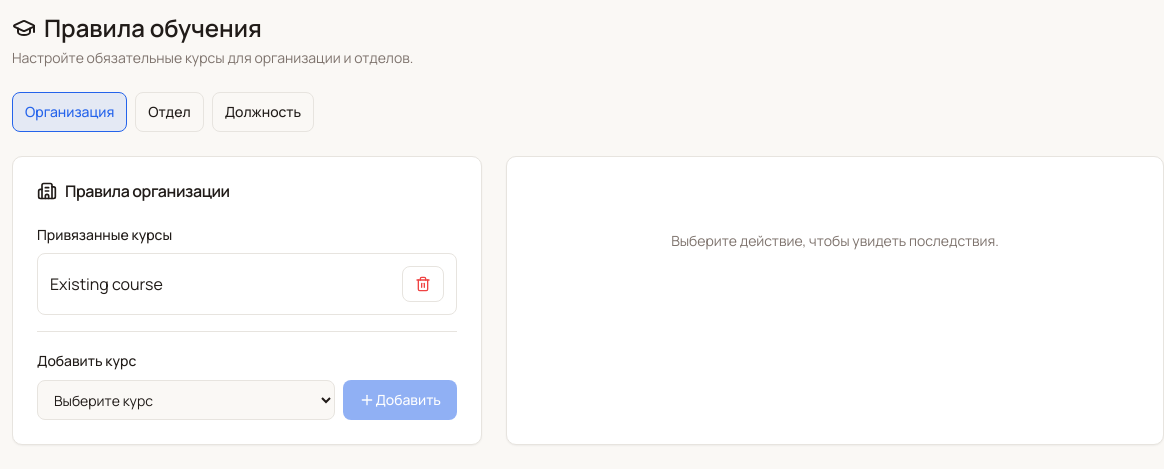
Test: TrainingRulesPage › requires a consequence preview before attaching an organization rule
The image size is (1164, 469).
Select "Safety" in the dropdown labelled "Добавить курс" at {"x": 186, "y": 400}, box top-left (37, 380), bottom-right (336, 420)
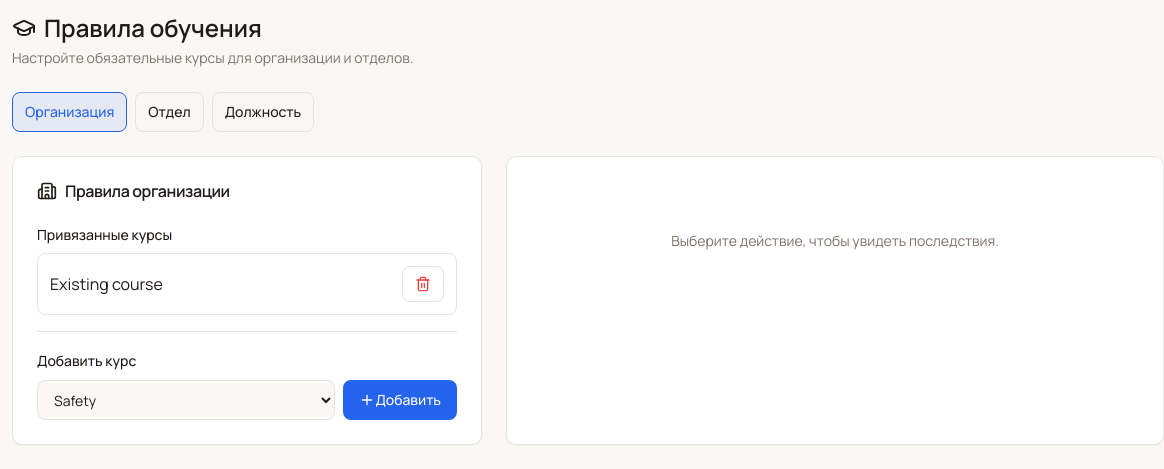
Click the button "Добавить".
click(400, 400)  # box top-left (344, 380), bottom-right (457, 420)
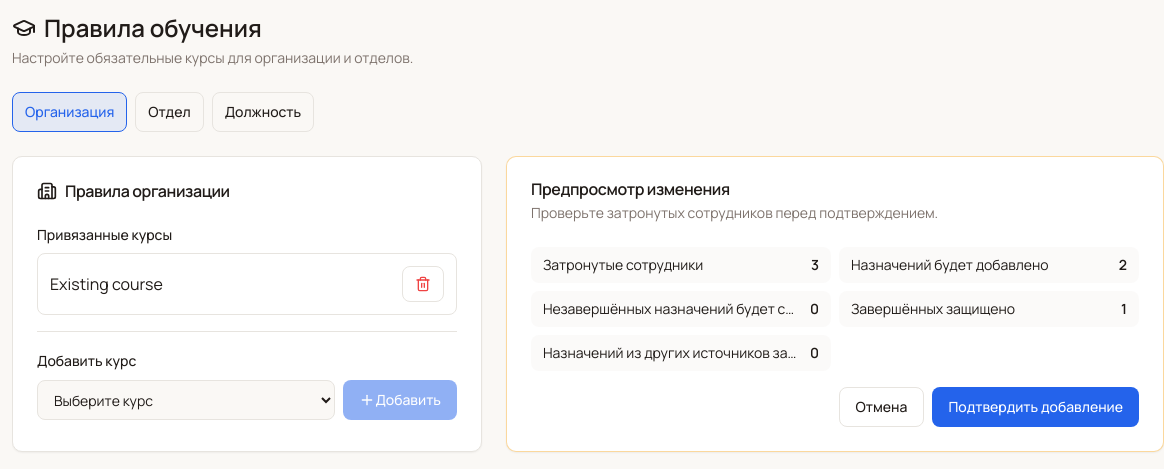
Now the heading "Предпросмотр изменения" is shown, box top-left (531, 178), bottom-right (730, 200)
Now the text "2" is shown, box top-left (1119, 255), bottom-right (1127, 275)
